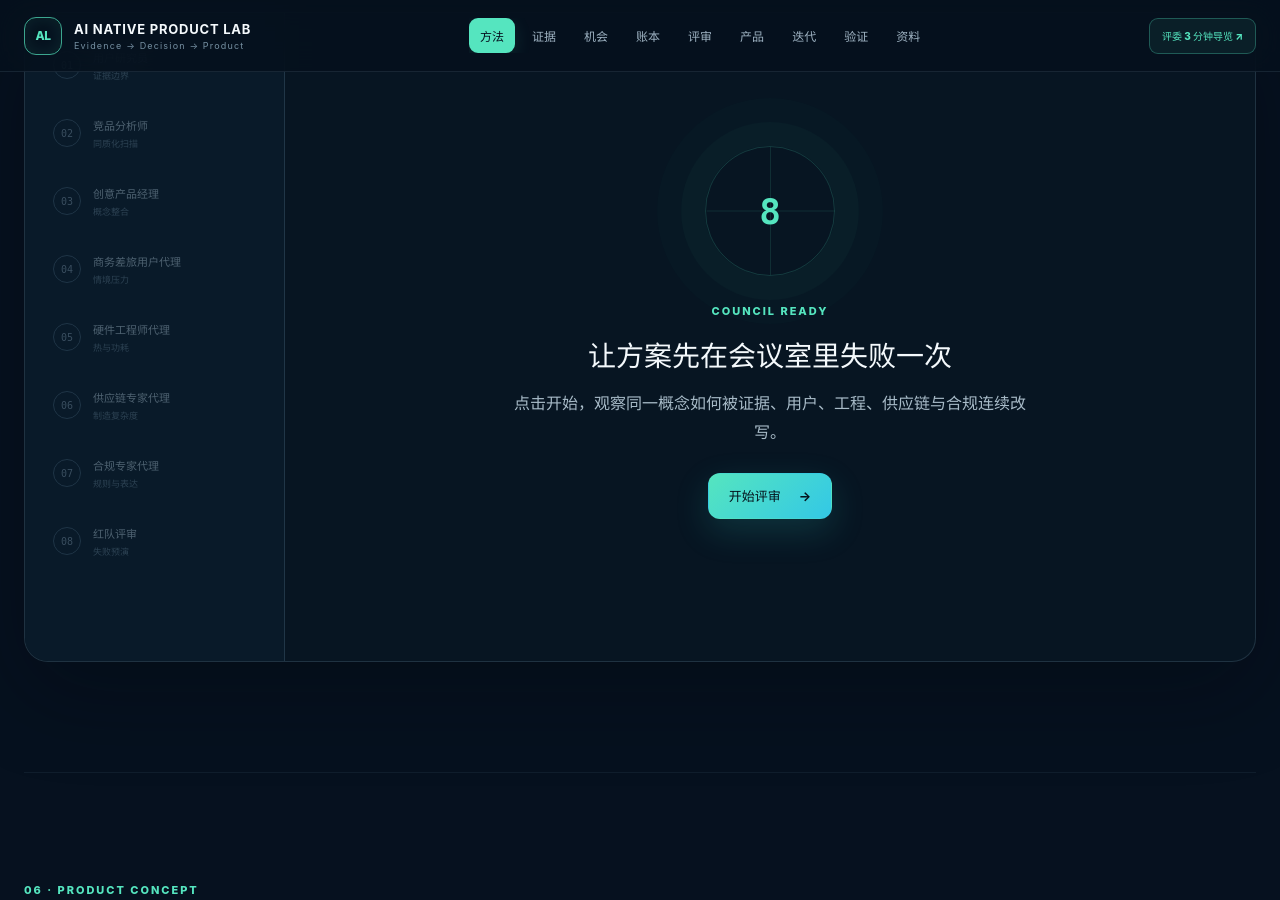
Test: product lab application › runs and resets the local multi-agent review demo
The width and height of the screenshot is (1280, 900).
(page scrolled)
What coordinates should you click on to do the following:
click the button "开始评审 →"
I would click on:
 (770, 496)
Its box is 708,473 -> 832,519.
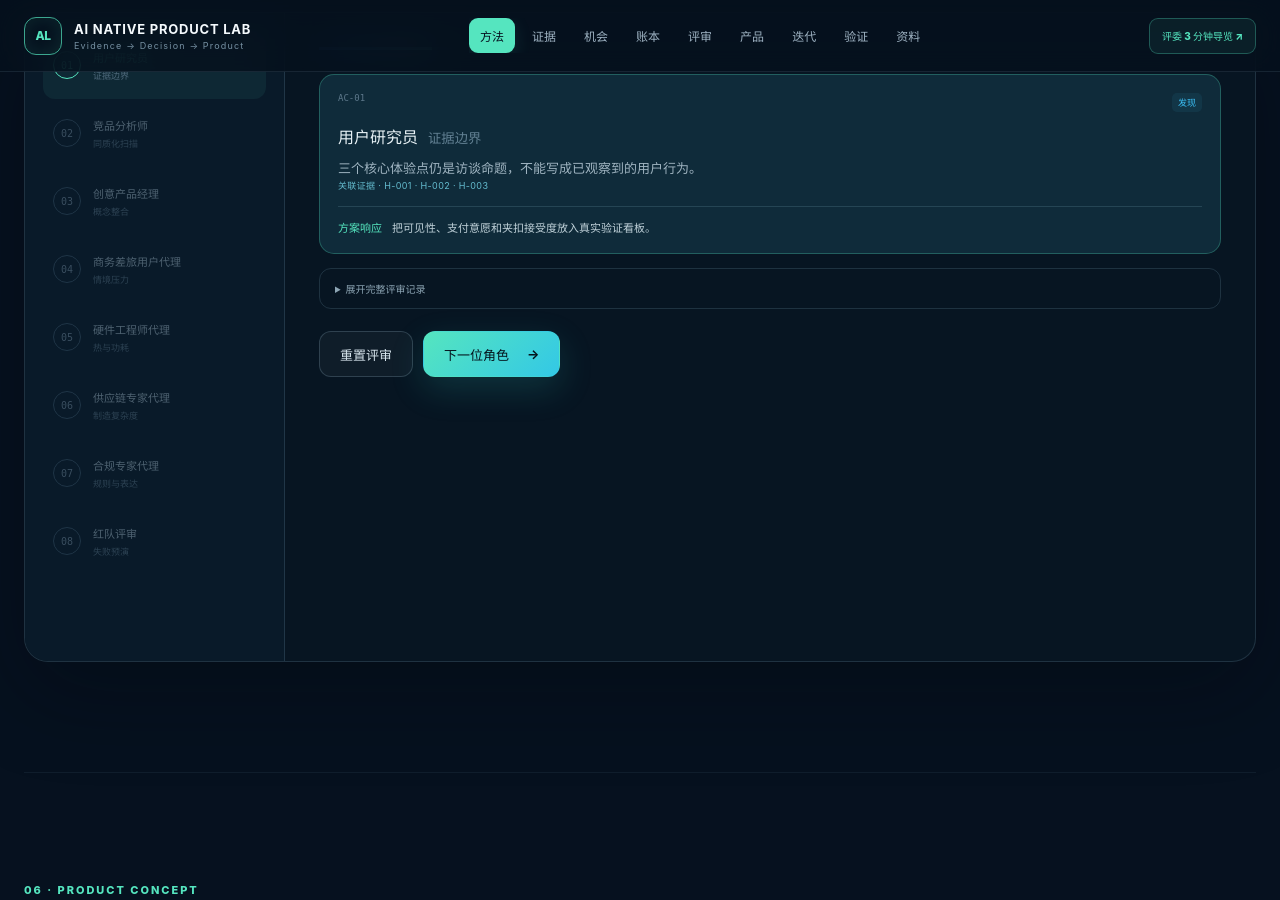
Expected: the text "用户研究员" is shown, 93,49 -> 148,65
What coordinates should you click on to do the following:
click the button "下一位角色 →"
I would click on:
 (492, 354)
Its box is 423,332 -> 560,378.
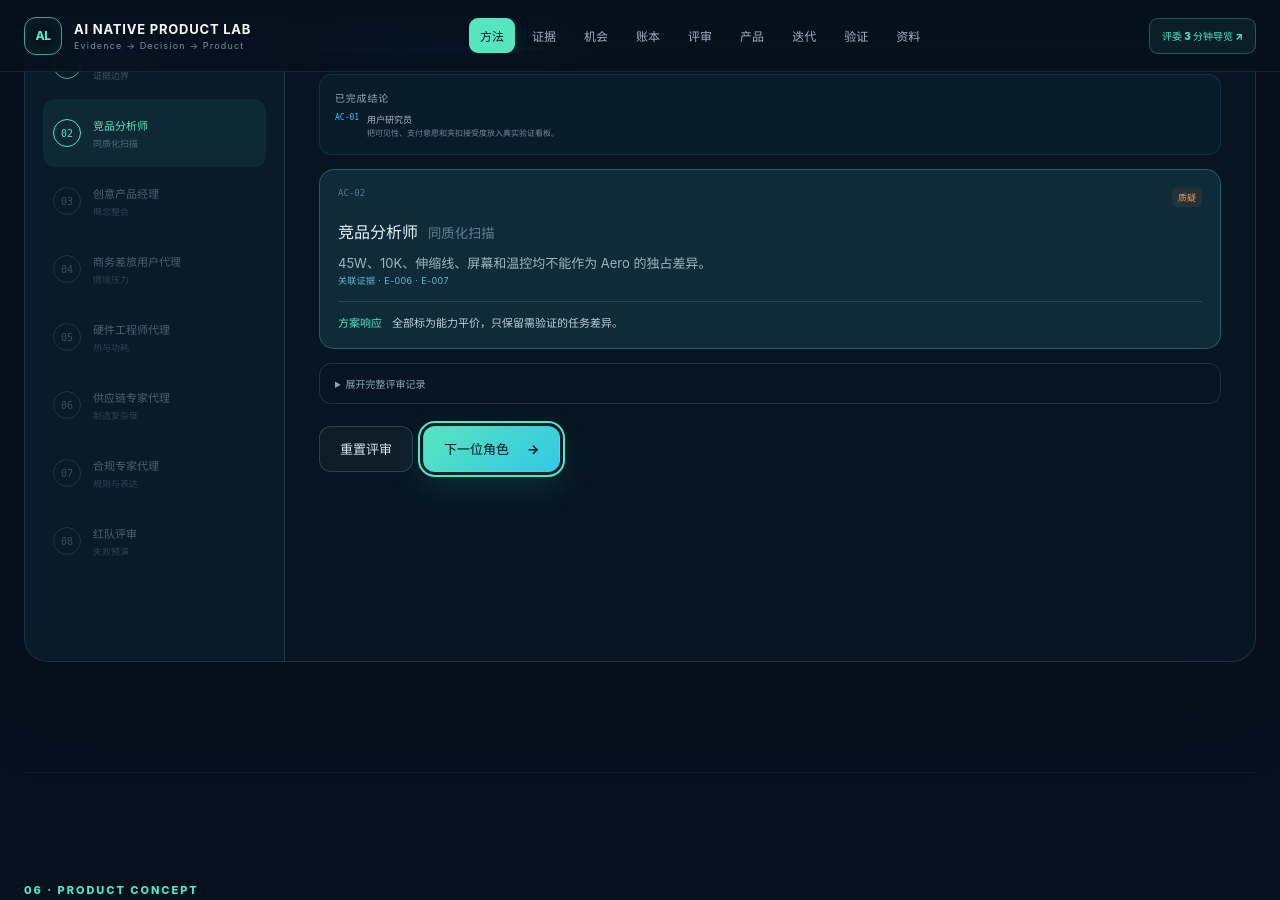
Expected: the text "竞品分析师" is shown, 93,117 -> 148,133
Expected: the heading "已完成结论" is shown, 335,92 -> 389,104
What coordinates should you click on to do the following:
click the button "重置评审"
I would click on:
 (366, 449)
Its box is 319,426 -> 413,472.
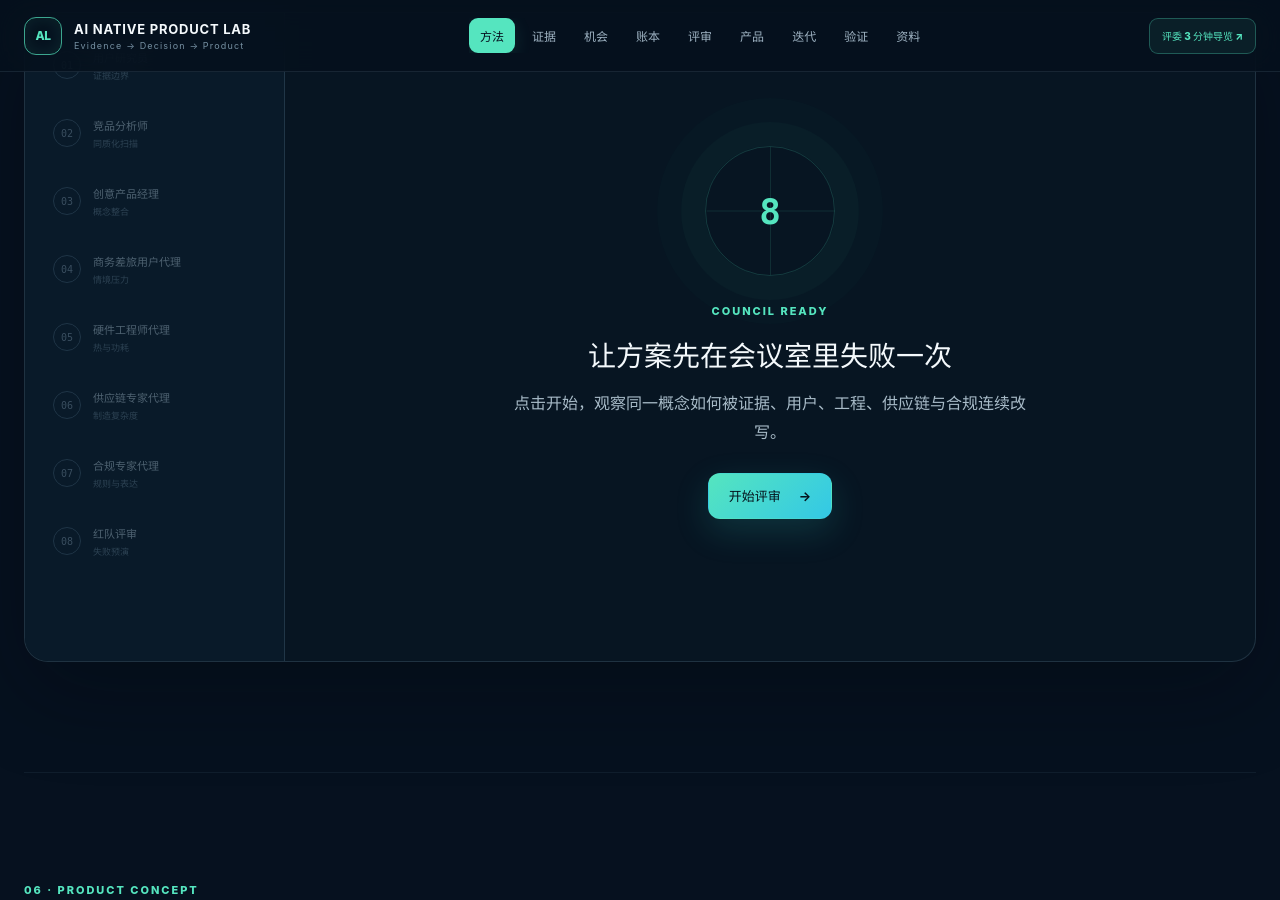
Expected: the button "开始评审 →" is shown, 708,473 -> 832,519
